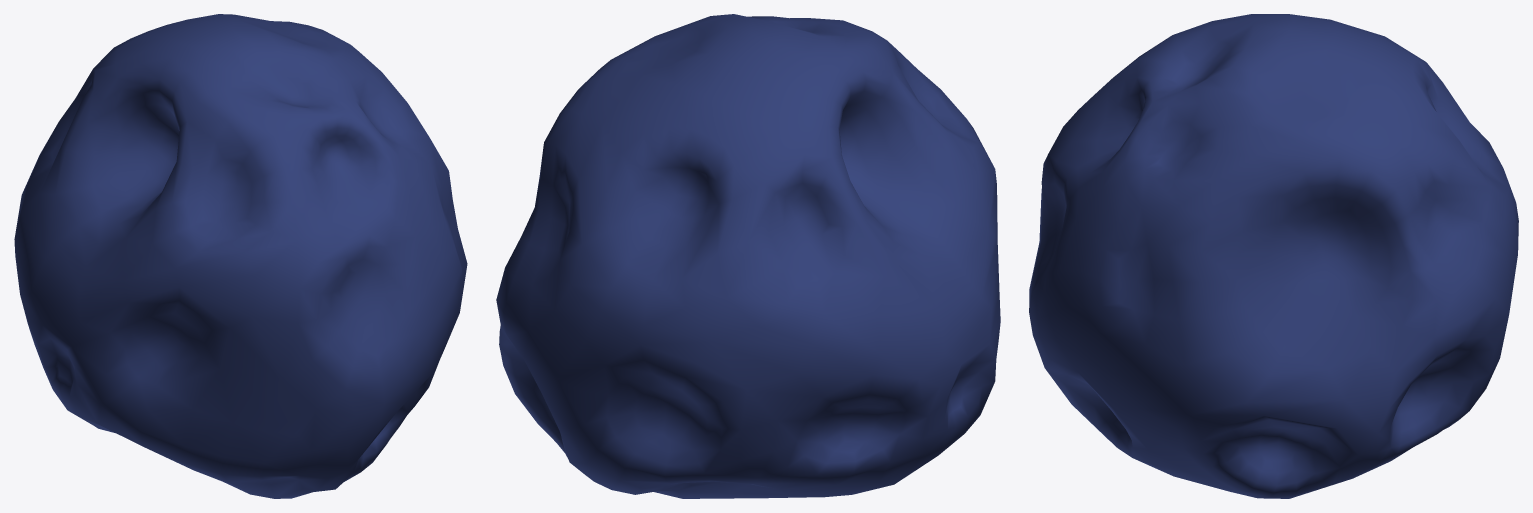
Rendered from BouncyMeteorite.fbx.
3 views of the same model, side by side, from view 1: azimuth 30°, elevation 25°; view 2: azimuth 150°, elevation 25°; view 3: azimuth 270°, elevation 25° (orthographic). The views are drawn at different scales.
Parts seen in each view (by area): view 1: pSphere1; view 2: pSphere1; view 3: pSphere1.
Boxes of the visible parts, x1,y1,x2,y2 form: pSphere1: (14,14,467,498); pSphere1: (496,14,1000,498); pSphere1: (1029,14,1518,498).
Size of the model in its own units: 2.74 by 2.86 by 2.94.
